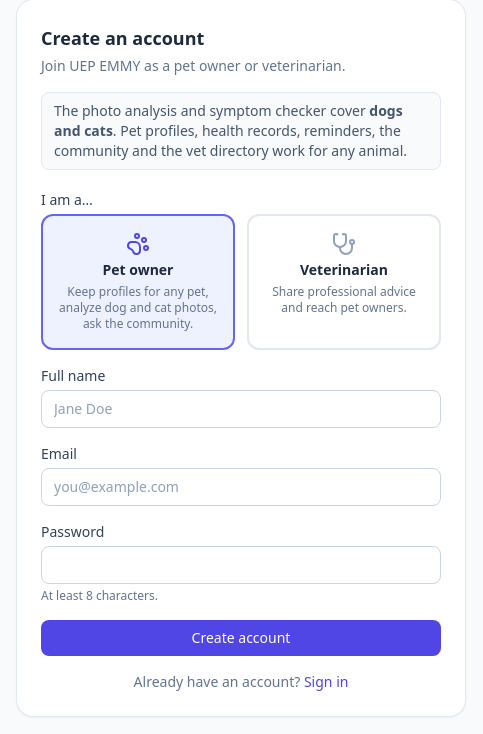
signing up no longer signs you in › says plainly that sign-in is blocked until the link is opened
The image size is (483, 734).
Type "Alex" into the field labelled "Full name" at point(241, 409), box 41,390 -> 441,428
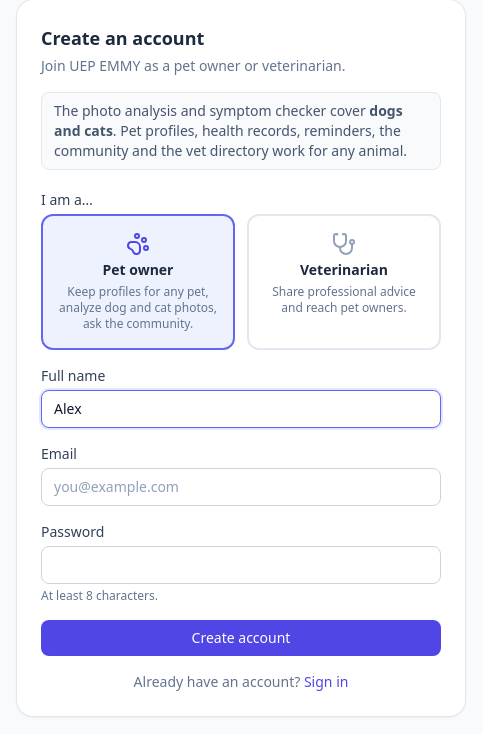
Type "alex@example.com" into the field labelled "Email" at point(241, 487), box 41,468 -> 441,506
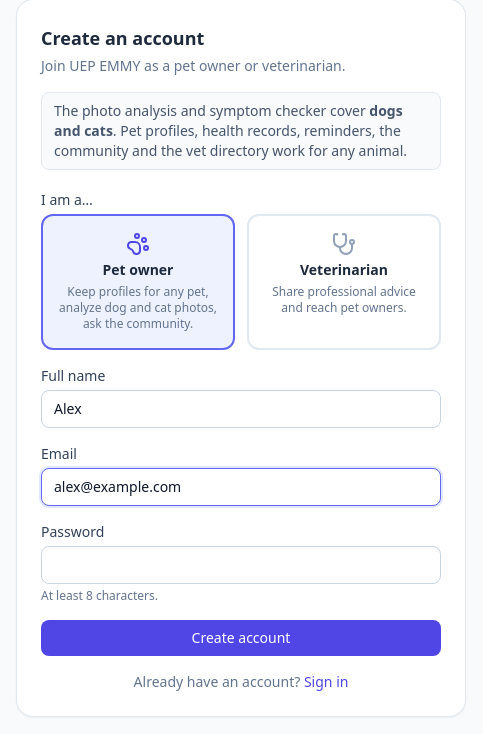
Type "hunter2hunter2" into the password field labelled "Password" at point(241, 565), box 41,546 -> 441,584
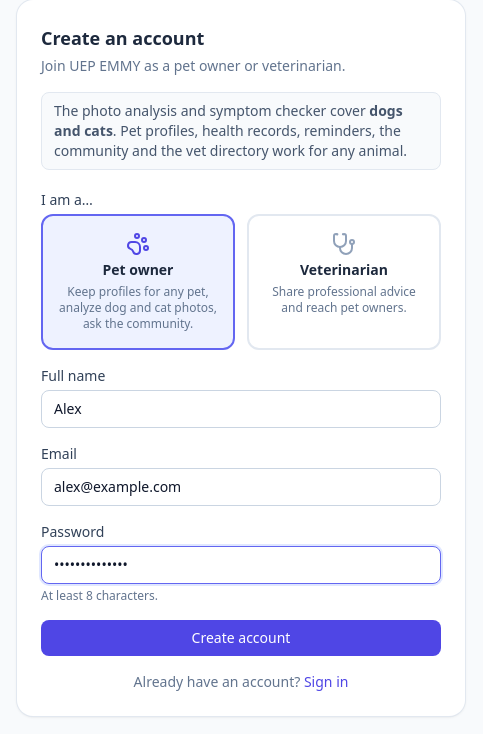
Click the button "Create account" at point(241, 638), box 41,620 -> 441,656
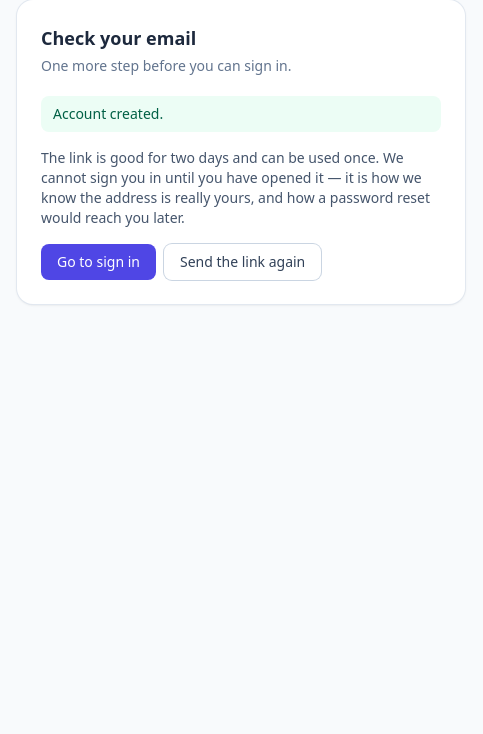
Expected: the heading "Check your email" is shown, 41,26 -> 196,50
Expected: the text "cannot sign you in until you have opened it" is shown, 41,148 -> 430,227
